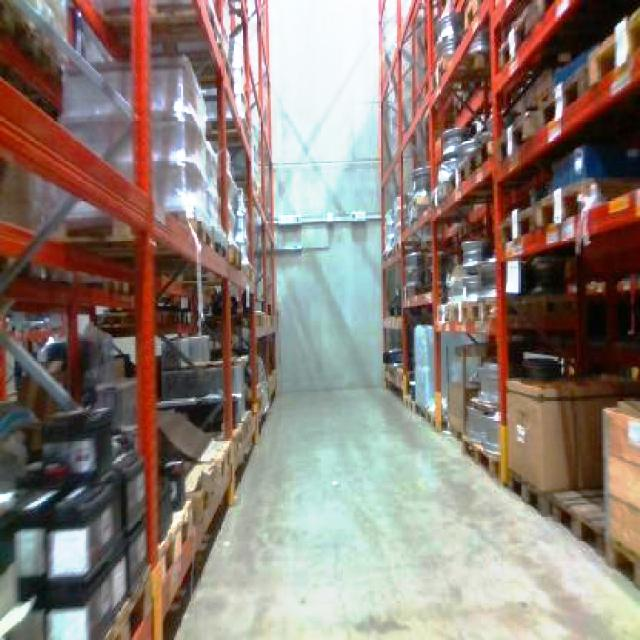ground: (154, 385, 638, 638)
pallet: (375, 0, 638, 638), (0, 402, 263, 638), (505, 374, 638, 638), (600, 391, 638, 635), (549, 486, 605, 555)
